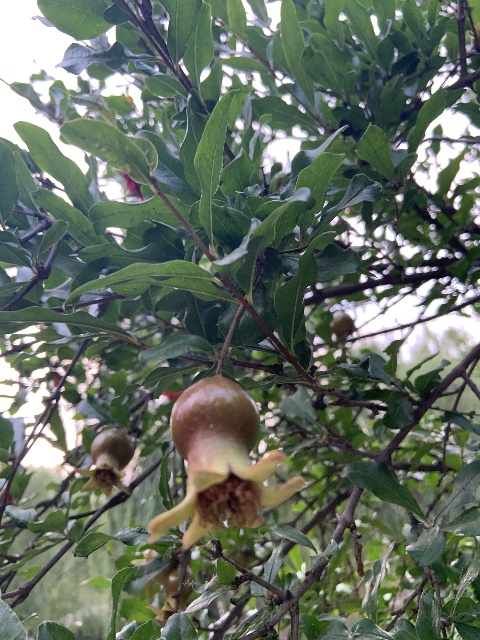early-fruit: (148, 375, 304, 550), (72, 427, 138, 499), (145, 565, 190, 624)
